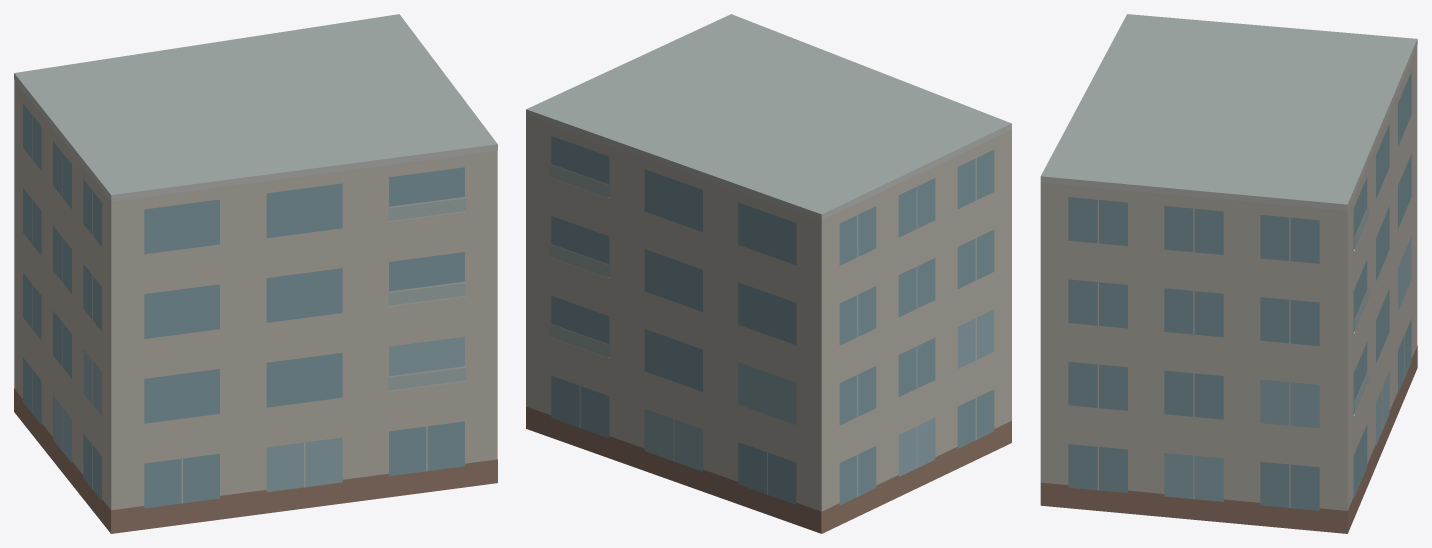
File: survey-upis-32740169.glb
3 views of the same model, side by side, from view 1: azimuth 30°, elevation 25°; view 2: azimuth 150°, elevation 25°; view 3: azimuth 270°, elevation 25° (orthographic). The views are drawn at different scales.
Parts seen in each view (by area): view 1: survey-upis-32740169.tmp; view 2: survey-upis-32740169.tmp; view 3: survey-upis-32740169.tmp.
Part boxes in pixels (x1,y1,x2,y2): survey-upis-32740169.tmp: (14, 14, 497, 533); survey-upis-32740169.tmp: (526, 14, 1011, 533); survey-upis-32740169.tmp: (1040, 14, 1417, 533).
Bounding box in the file's own units: 15.89 × 12.8 × 13.28.
